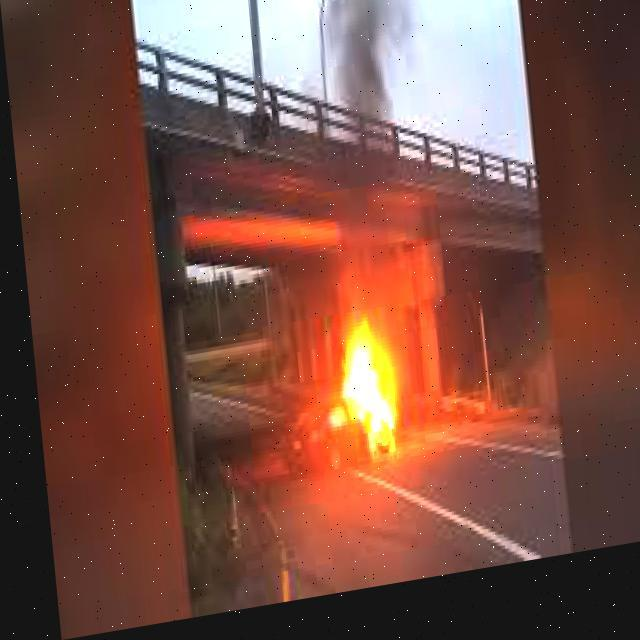Fire: (322, 310, 400, 474)
